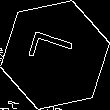L_E: (27, 32, 83, 78)
